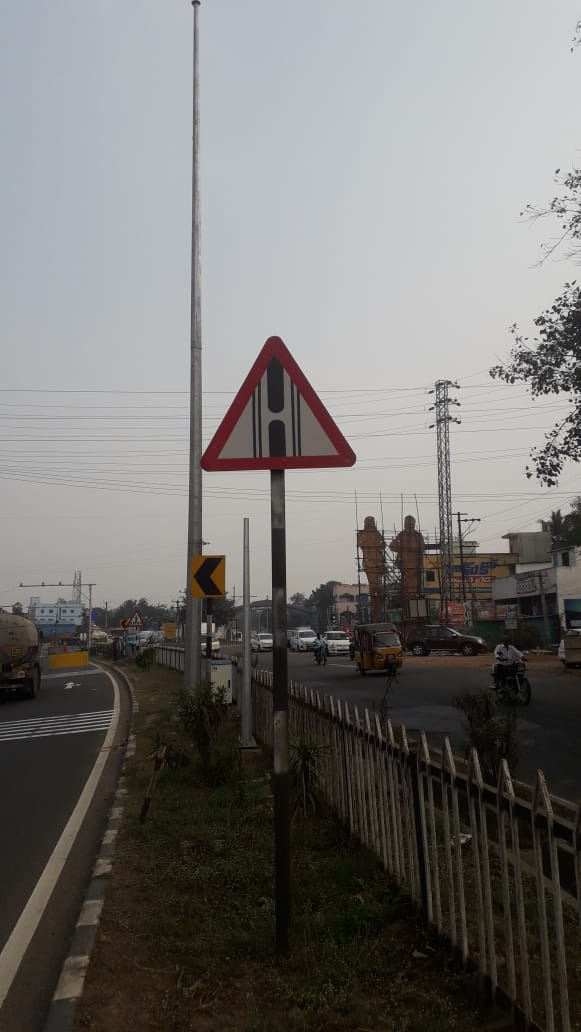highway go straight: (195, 309, 385, 511)
